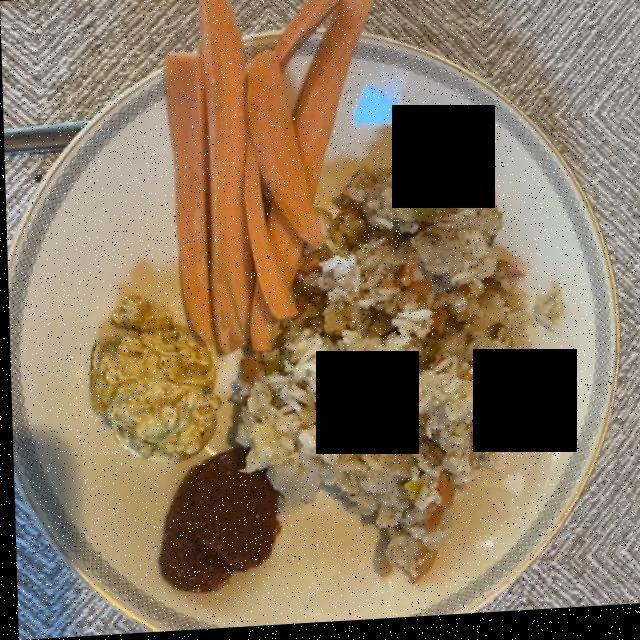carrot: (164, 0, 372, 357)
fried-rice: (244, 162, 530, 579)
tomato: (155, 464, 277, 585)
